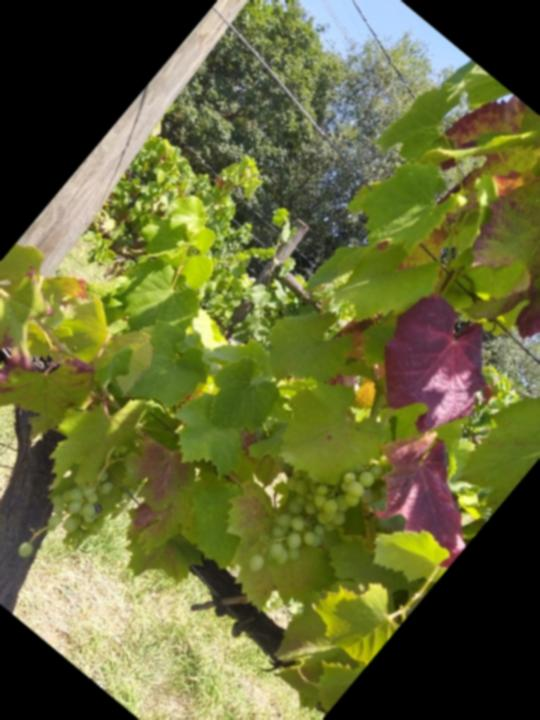grape: (216, 413, 405, 614)
